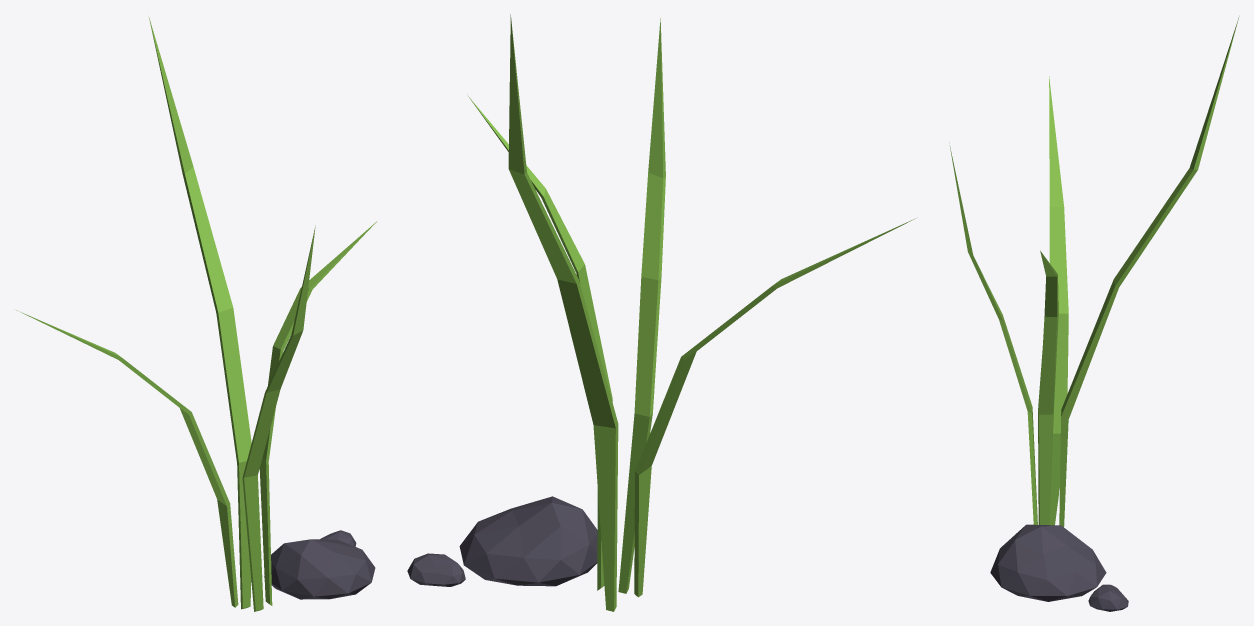
File: sto.fbx
The picture shows the model from 3 angles, left to right: view 1: azimuth 30°, elevation 25°; view 2: azimuth 150°, elevation 25°; view 3: azimuth 270°, elevation 25°; orthographic projection. The views are drawn at different scales.
Visible parts, largest first — view 1: Plane, Icosphere; view 2: Plane, Icosphere; view 3: Plane, Icosphere.
Boxes of the visible parts, bbox=[...] form: Plane: bbox=[16, 16, 376, 611]; Icosphere: bbox=[264, 530, 375, 599]; Plane: bbox=[467, 14, 917, 611]; Icosphere: bbox=[407, 496, 597, 586]; Plane: bbox=[949, 16, 1239, 526]; Icosphere: bbox=[990, 524, 1128, 611].
Bounding box in the file's own units: 58.34 × 80.69 × 39.05.
